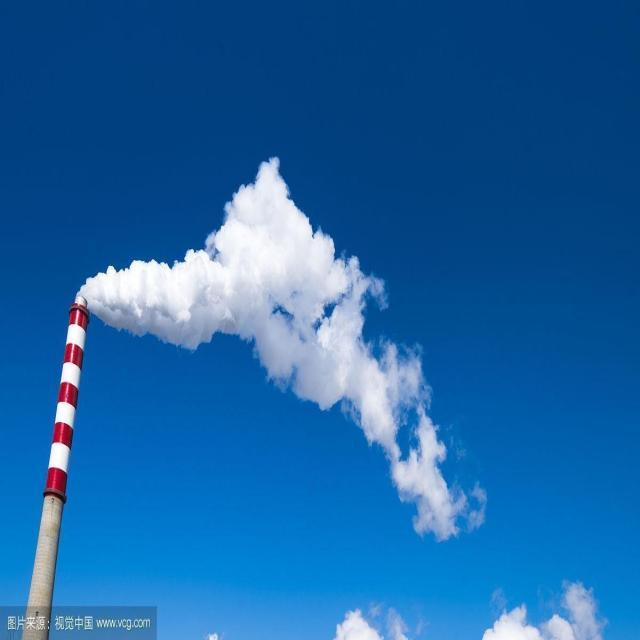Smoke: (75, 154, 488, 544)
